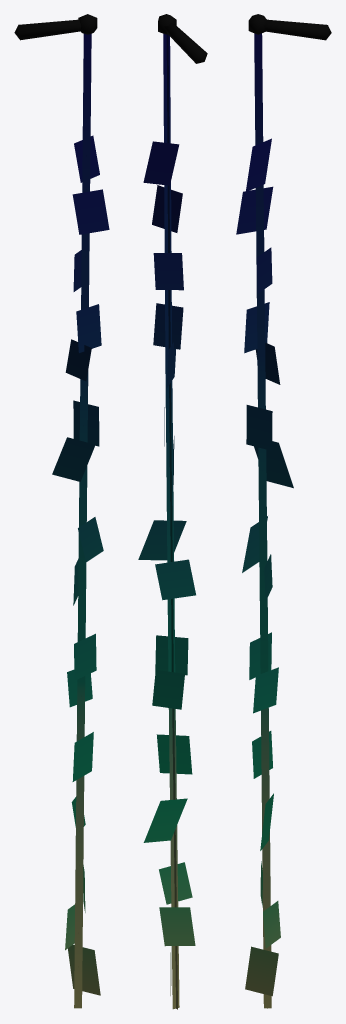
File: SM_Pit_TagStrand_A.fbx
3 views of the same model, side by side, from view 1: azimuth 90°, elevation 25°; view 2: azimuth 210°, elevation 25°; view 3: azimuth 270°, elevation 25° (orthographic).
Visible parts, largest first — view 1: SM_Pit_TagStrand_A; view 2: SM_Pit_TagStrand_A; view 3: SM_Pit_TagStrand_A.
Boxes of the visible parts, left/top/right/bottom form: SM_Pit_TagStrand_A: left=14, top=14, right=109, bottom=1008; SM_Pit_TagStrand_A: left=138, top=14, right=207, bottom=1009; SM_Pit_TagStrand_A: left=236, top=14, right=331, bottom=1008.
Bounding box in the file's own units: 0.0785 × 1.52 × 0.1324.
